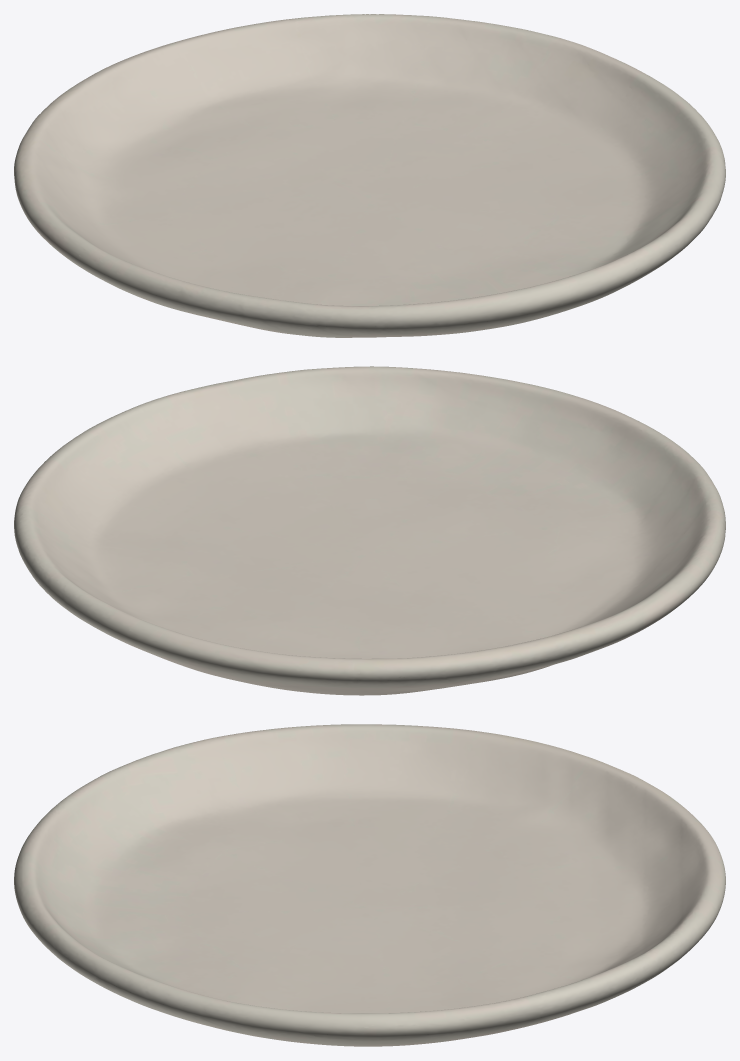
File: tripo_convert_96ecfb3f-3efb-4cb7-9f86-f744442c8167.fbx
3 renders of one model, top to bottom at view 1: azimuth 30°, elevation 25°; view 2: azimuth 150°, elevation 25°; view 3: azimuth 270°, elevation 25°, orthographic.
Parts seen in each view (by area): view 1: tripo_node_96ecfb3f; view 2: tripo_node_96ecfb3f; view 3: tripo_node_96ecfb3f.
Boxes of the visible parts, <box> form: tripo_node_96ecfb3f: <box>14,14,725,337</box>; tripo_node_96ecfb3f: <box>14,366,725,695</box>; tripo_node_96ecfb3f: <box>14,724,725,1046</box>.
Bounding box in the file's own units: 0.9996 × 0.0987 × 1.
